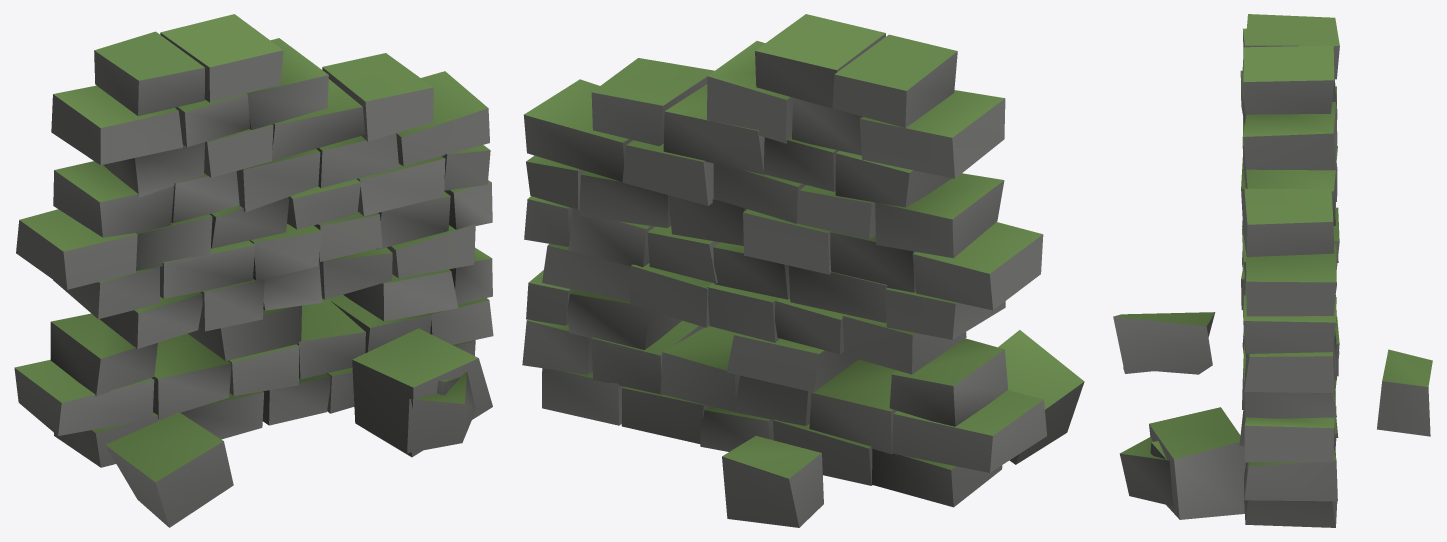
The model's file is obj_ruina.glb.
3 renders of one model, left to right at view 1: azimuth 30°, elevation 25°; view 2: azimuth 150°, elevation 25°; view 3: azimuth 270°, elevation 25°, orthographic. The views are drawn at different scales.
Parts seen in each view (by area): view 1: propforge-cuartos-ruina; view 2: propforge-cuartos-ruina; view 3: propforge-cuartos-ruina.
Boxes of the visible parts, x1,y1,x2,y2 form: propforge-cuartos-ruina: (14,14,493,527); propforge-cuartos-ruina: (522,14,1084,527); propforge-cuartos-ruina: (1113,14,1432,527).
Size of the model in its own units: 1.09 by 0.9455 by 0.7281.
